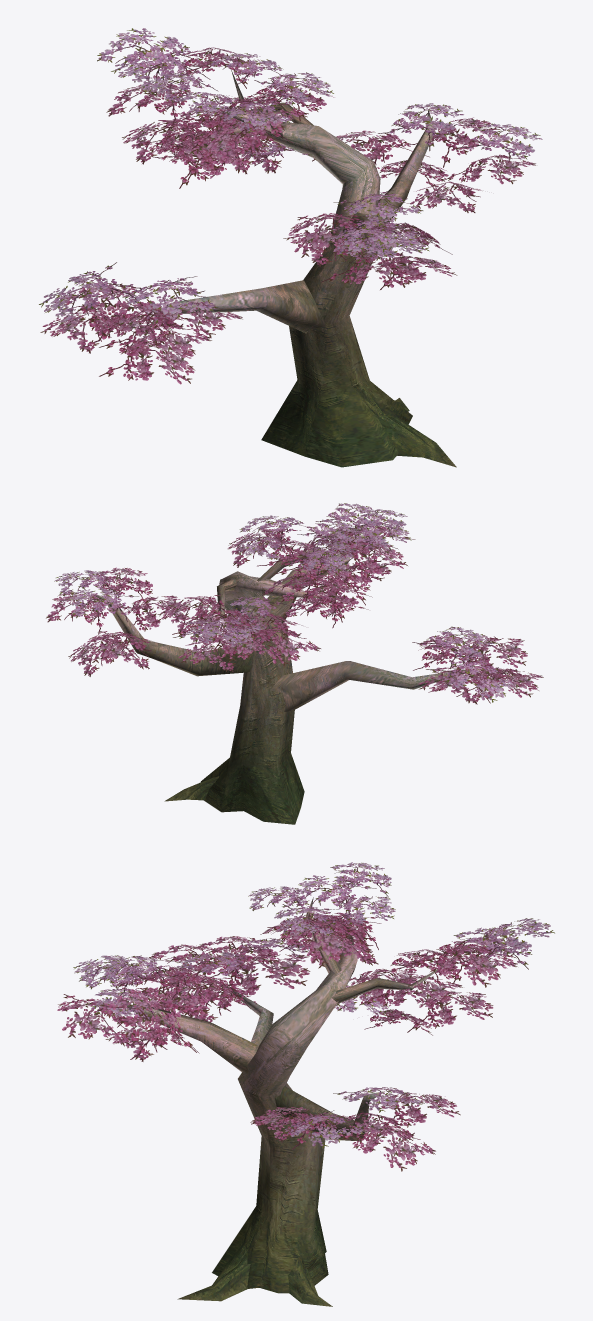
The model's file is environment_Tree_taoshu_001_d.FBX.
3 views of the same model, one above another, from view 1: azimuth 30°, elevation 25°; view 2: azimuth 150°, elevation 25°; view 3: azimuth 270°, elevation 25° (orthographic). The views are drawn at different scales.
Visible parts, largest first — view 1: nvironment_Tree_taoshu_001_d_01, nvironment_Tree_taoshu_001_d_03, nvironment_Tree_taoshu_001_d_02; view 2: nvironment_Tree_taoshu_001_d_01, nvironment_Tree_taoshu_001_d_03, nvironment_Tree_taoshu_001_d_02; view 3: nvironment_Tree_taoshu_001_d_01, nvironment_Tree_taoshu_001_d_03, nvironment_Tree_taoshu_001_d_02.
Part boxes in pixels (left/top/right/bottom): nvironment_Tree_taoshu_001_d_01: left=145, top=70, right=456, bottom=467; nvironment_Tree_taoshu_001_d_03: left=40, top=47, right=535, bottom=384; nvironment_Tree_taoshu_001_d_02: left=39, top=28, right=542, bottom=328; nvironment_Tree_taoshu_001_d_01: left=95, top=544, right=481, bottom=824; nvironment_Tree_taoshu_001_d_03: left=46, top=525, right=543, bottom=704; nvironment_Tree_taoshu_001_d_02: left=54, top=503, right=518, bottom=702; nvironment_Tree_taoshu_001_d_01: left=127, top=897, right=443, bottom=1306; nvironment_Tree_taoshu_001_d_03: left=57, top=912, right=517, bottom=1171; nvironment_Tree_taoshu_001_d_02: left=73, top=862, right=554, bottom=1148.
Size of the model in its own units: 636 by 566 by 381.
3 materials, 3 textured.
